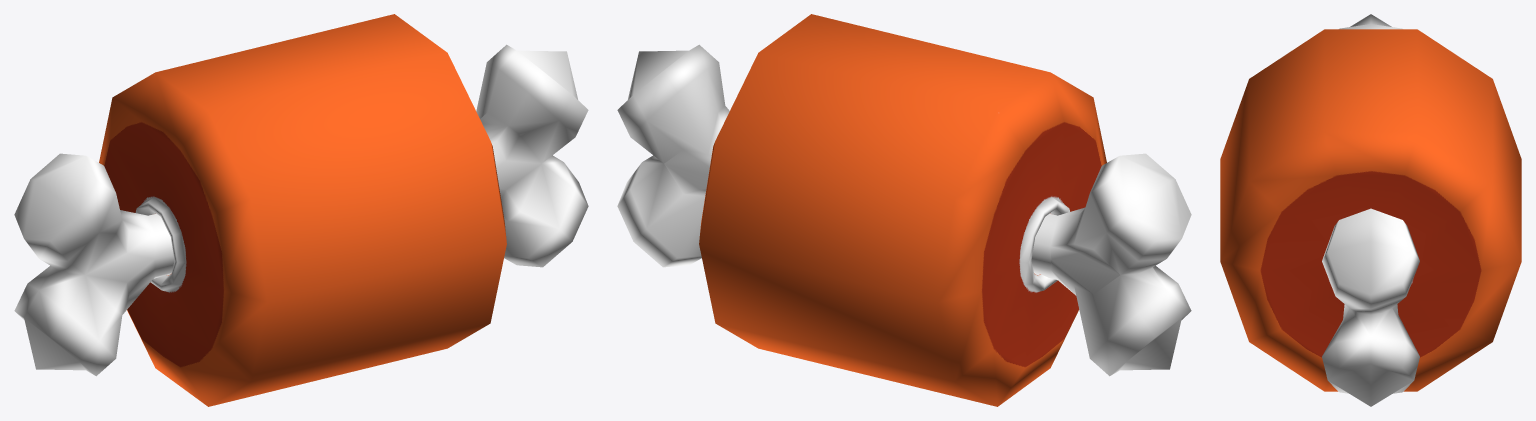
The model's file is Meat (3).fbx.
3 renders of one model, left to right at view 1: azimuth 30°, elevation 25°; view 2: azimuth 150°, elevation 25°; view 3: azimuth 270°, elevation 25°, orthographic. The views are drawn at different scales.
Visible parts, largest first — view 1: group2pCylinder14, group2polySurface223; view 2: group2pCylinder14, group2polySurface223; view 3: group2pCylinder14, group2polySurface223.
Part boxes in pixels (x1=…): group2pCylinder14: x1=99, y1=14, x2=506, y2=406; group2polySurface223: x1=14, y1=44, x2=588, y2=376; group2pCylinder14: x1=699, y1=14, x2=1106, y2=406; group2polySurface223: x1=617, y1=44, x2=1191, y2=376; group2pCylinder14: x1=1220, y1=29, x2=1521, y2=391; group2polySurface223: x1=1322, y1=14, x2=1419, y2=406.
Bounding box in the file's own units: 85.74 × 43.66 × 45.91.
Materials: 1 (1 with a texture image).
